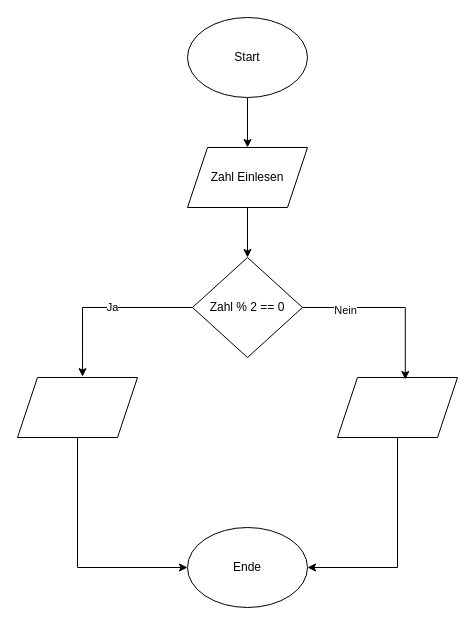
Some shapes in this 475 by 625 pixel diagram are drawn without their labels. The box of each missing label's shape, as (x1, y1, x2, y2) in pixels:
"Gerade" Ausgeben: (16, 376, 138, 438)
"Ungerade" Ausgeben: (336, 376, 458, 438)
